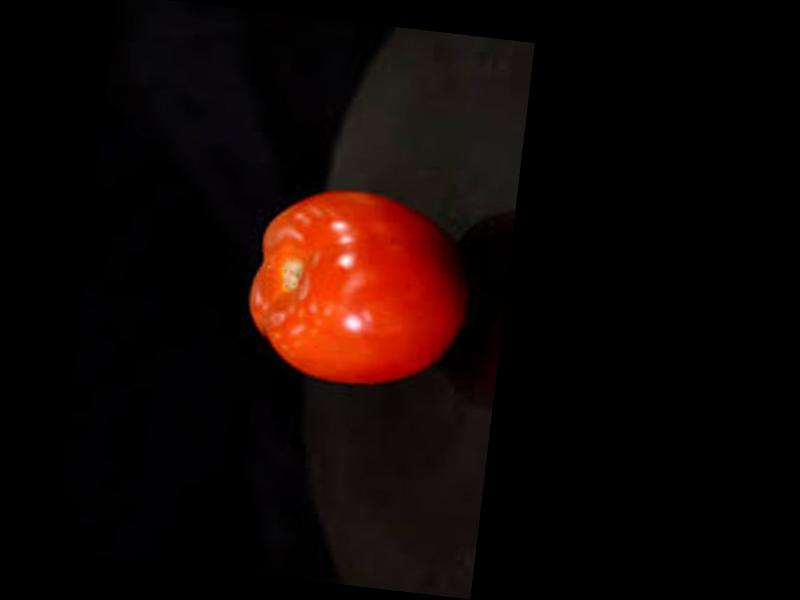Tomato: (237, 178, 478, 398)
